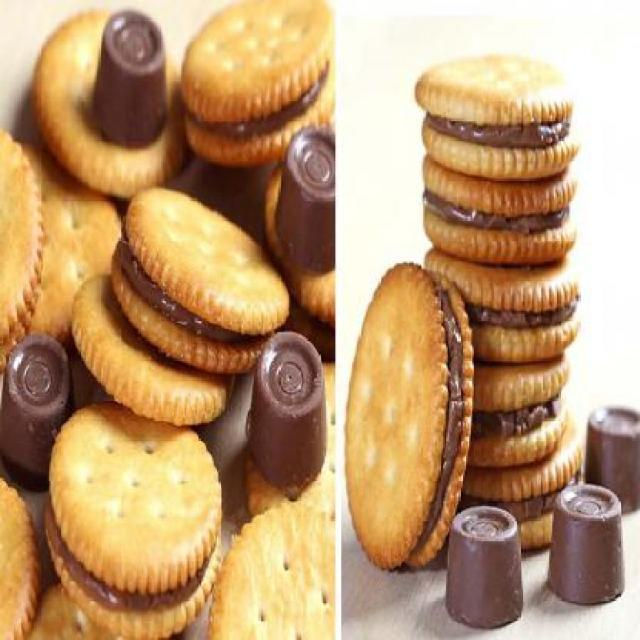Ritz cracker packaged: (7, 5, 316, 627), (346, 47, 577, 602)
